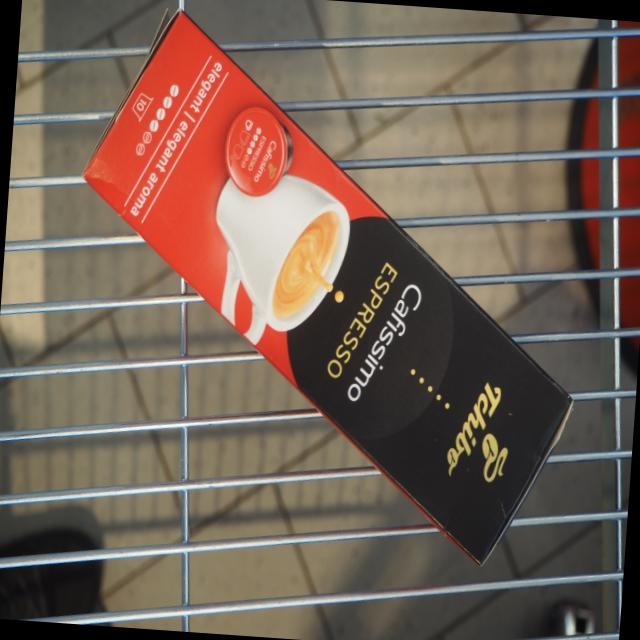Simo Es Elegant: (78, 0, 582, 572)
